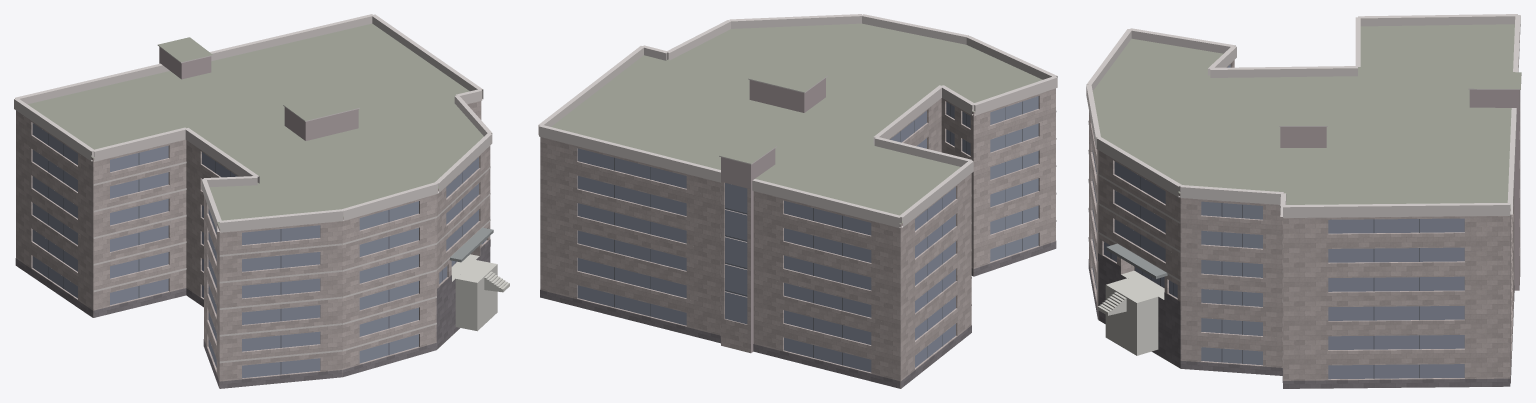
3 views of the same model, side by side, from view 1: azimuth 30°, elevation 25°; view 2: azimuth 150°, elevation 25°; view 3: azimuth 270°, elevation 25° (orthographic). The views are drawn at different scales.
Parts seen in each view (by area): view 1: b10_1__wall, b10_1__roof, b10_1__glass, b10_1__trim, b10_1__base, b10_1__entranceStair, b10_1__wall2, b10_1__frame, b10_1__canopy; view 2: b10_1__wall, b10_1__roof, b10_1__glass, b10_1__trim, b10_1__base, b10_1__wall2, b10_1__frame; view 3: b10_1__roof, b10_1__wall, b10_1__glass, b10_1__trim, b10_1__base, b10_1__entranceStair, b10_1__wall2, b10_1__canopy, b10_1__frame.
Part boxes in pixels (box(x1,y1,x2,y2)): b10_1__wall: box(16, 101, 490, 387); b10_1__roof: box(28, 23, 483, 348); b10_1__glass: box(32, 123, 486, 378); b10_1__trim: box(14, 14, 492, 363); b10_1__base: box(15, 239, 490, 388); b10_1__entranceStair: box(451, 254, 509, 331); b10_1__wall2: box(159, 47, 358, 140); b10_1__frame: box(48, 133, 483, 374); b10_1__canopy: box(449, 227, 493, 262); b10_1__wall: box(540, 88, 1055, 388); b10_1__roof: box(551, 23, 1042, 224); b10_1__glass: box(577, 96, 1038, 372); b10_1__trim: box(538, 14, 1057, 305); b10_1__base: box(540, 241, 1056, 388); b10_1__wall2: box(721, 78, 825, 352); b10_1__frame: box(614, 101, 1022, 365); b10_1__roof: box(1092, 24, 1521, 388); b10_1__wall: box(1089, 60, 1520, 382); b10_1__glass: box(1092, 64, 1464, 379); b10_1__trim: box(1086, 14, 1521, 359); b10_1__base: box(1088, 253, 1514, 388); b10_1__entranceStair: box(1097, 270, 1164, 355); b10_1__wall2: box(1280, 89, 1520, 290); b10_1__canopy: box(1106, 243, 1167, 278); b10_1__frame: box(1110, 177, 1419, 378).
Size of the model in its own units: 51.25 by 25.01 by 48.78.
Materials: 10 (2 with a texture image).
